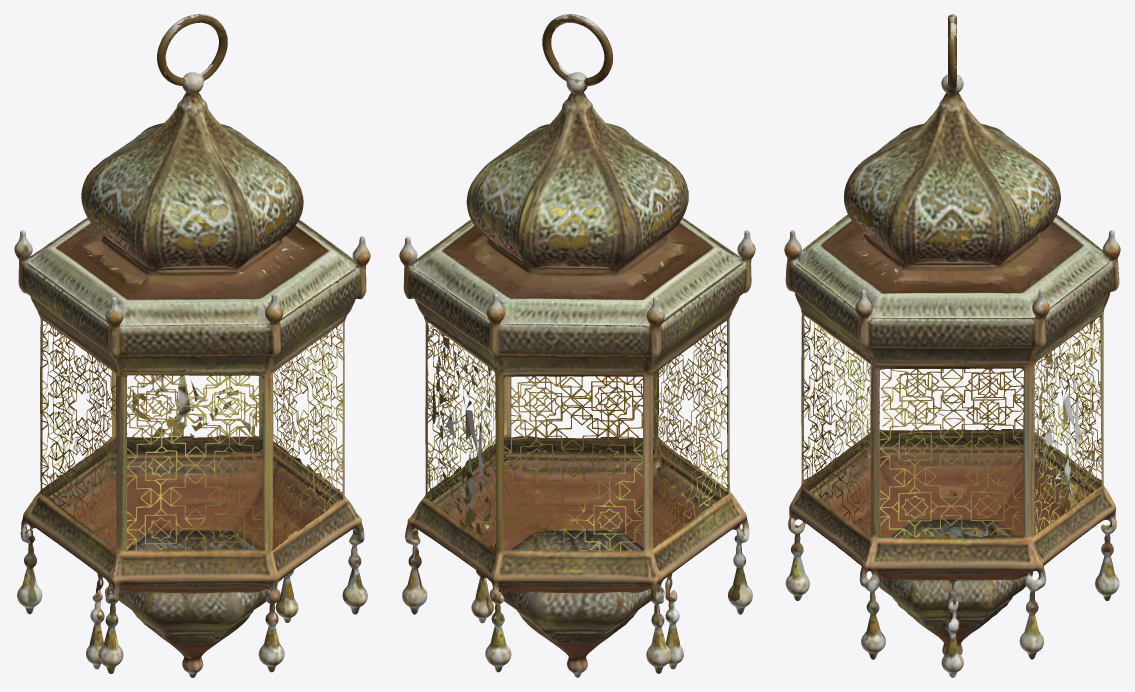
Rendered from lantern-opt.glb.
3 renders of one model, left to right at view 1: azimuth 30°, elevation 25°; view 2: azimuth 150°, elevation 25°; view 3: azimuth 270°, elevation 25°, orthographic. The views are drawn at different scales.
Visible parts, largest first — view 1: geometry_0_n3d; view 2: geometry_0_n3d; view 3: geometry_0_n3d.
Part boxes in pixels (x1,y1,x2,y2): geometry_0_n3d: (14, 14, 370, 677); geometry_0_n3d: (399, 14, 755, 677); geometry_0_n3d: (784, 14, 1120, 677).
Bounding box in the file's own units: 0.5298 × 1.26 × 0.5945.
Materials: 1 (1 with a texture image).
